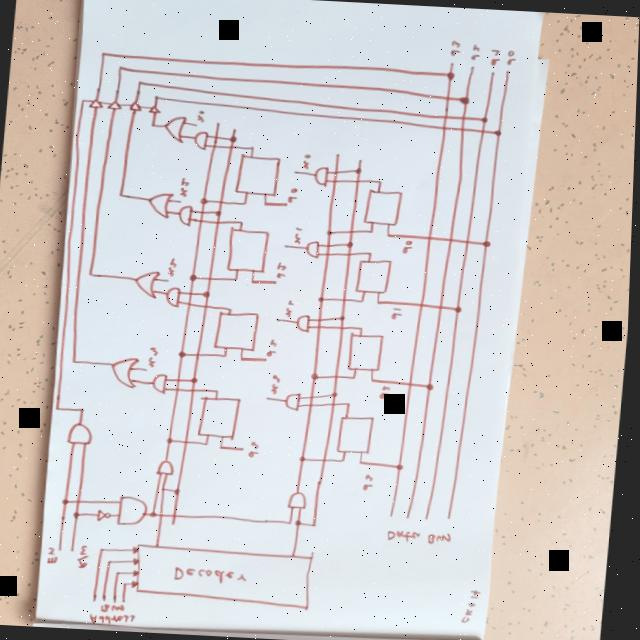crossover: (447, 234, 459, 245), (460, 111, 471, 122), (198, 350, 206, 360), (409, 378, 417, 388), (439, 302, 448, 310), (186, 437, 194, 445), (428, 234, 436, 242), (466, 237, 474, 245), (442, 124, 450, 132), (323, 456, 331, 464), (334, 400, 342, 408), (421, 300, 428, 308), (481, 126, 488, 134), (446, 94, 453, 102), (341, 324, 349, 331), (344, 296, 351, 304), (312, 392, 319, 400), (229, 144, 236, 152), (444, 113, 451, 120), (336, 373, 343, 380), (319, 316, 327, 322), (349, 251, 357, 257), (334, 170, 342, 176), (193, 386, 199, 394), (190, 300, 196, 308), (460, 126, 467, 132), (191, 290, 198, 296), (217, 220, 224, 226), (179, 376, 184, 384), (312, 402, 318, 408), (329, 252, 335, 258), (329, 243, 335, 249), (358, 178, 364, 184), (335, 178, 341, 184), (206, 304, 212, 310), (209, 276, 215, 282), (202, 210, 208, 216), (214, 144, 220, 150), (215, 134, 221, 140), (319, 324, 326, 329), (163, 512, 168, 518), (179, 387, 185, 392), (201, 219, 207, 223)
junction: (460, 95, 472, 106), (483, 238, 494, 249), (427, 381, 438, 392), (446, 70, 457, 81), (398, 462, 410, 472), (456, 304, 467, 314), (495, 128, 505, 138), (230, 134, 240, 144), (65, 497, 75, 506), (348, 240, 357, 250), (481, 115, 491, 124), (193, 376, 202, 385), (202, 197, 211, 206), (314, 372, 323, 381), (181, 349, 190, 358), (217, 208, 225, 218), (170, 435, 178, 444), (320, 294, 329, 302), (341, 314, 350, 322), (102, 546, 111, 554), (155, 509, 163, 518), (117, 64, 126, 72), (328, 228, 336, 236), (192, 274, 200, 282), (303, 454, 311, 462), (178, 486, 186, 494), (334, 390, 342, 398), (205, 290, 213, 298), (89, 270, 97, 278), (299, 518, 307, 526), (361, 298, 369, 306), (353, 374, 361, 382), (387, 231, 395, 239), (137, 79, 145, 87), (291, 518, 299, 526), (348, 400, 356, 408), (175, 512, 183, 520), (356, 167, 365, 174), (82, 406, 90, 413), (77, 511, 85, 518), (58, 404, 65, 412), (370, 228, 377, 236), (372, 377, 380, 384), (378, 178, 386, 185), (119, 192, 127, 198), (361, 460, 369, 466), (100, 50, 108, 56), (315, 522, 322, 528), (74, 358, 81, 364), (244, 200, 250, 207), (151, 122, 158, 128), (264, 201, 271, 207), (242, 346, 248, 353), (378, 298, 385, 304), (230, 306, 237, 312), (252, 279, 258, 285), (242, 356, 248, 362), (222, 444, 228, 450), (236, 276, 242, 282), (225, 352, 231, 358), (361, 326, 367, 332), (368, 250, 374, 256), (251, 145, 257, 151), (240, 220, 246, 226), (165, 486, 171, 492), (156, 95, 162, 101), (207, 441, 213, 446), (218, 388, 224, 393)
terminal: (407, 512, 417, 522), (489, 68, 498, 78), (278, 314, 287, 324), (268, 394, 277, 404), (469, 66, 479, 74), (504, 68, 513, 76), (392, 510, 400, 518), (294, 168, 302, 176), (286, 242, 294, 250), (115, 596, 123, 604), (449, 514, 458, 521), (448, 60, 457, 67), (358, 156, 365, 164), (96, 594, 103, 602), (215, 120, 222, 128), (428, 512, 434, 521), (336, 152, 342, 160), (73, 546, 81, 552), (60, 546, 68, 552), (107, 594, 113, 602), (243, 444, 249, 452), (266, 357, 273, 363), (285, 202, 292, 208), (126, 596, 132, 603), (195, 121, 201, 128), (234, 125, 240, 131), (167, 277, 173, 283), (275, 280, 281, 286), (147, 367, 153, 372), (180, 200, 186, 203)
text: (174, 564, 256, 585), (391, 528, 458, 546), (92, 610, 143, 626), (81, 542, 97, 569), (101, 602, 134, 614), (179, 177, 193, 200), (293, 223, 308, 244), (272, 374, 285, 396), (490, 46, 503, 68), (450, 38, 464, 58), (285, 298, 298, 318), (302, 152, 315, 172), (366, 472, 379, 491), (251, 439, 264, 458), (168, 257, 180, 277), (470, 42, 482, 62), (382, 384, 396, 401), (51, 548, 64, 566), (506, 49, 519, 67), (404, 238, 417, 255), (392, 307, 409, 320), (151, 346, 162, 366), (270, 338, 281, 356), (278, 262, 290, 278), (196, 108, 208, 123), (290, 188, 301, 200), (350, 228, 357, 234), (344, 458, 350, 462)
